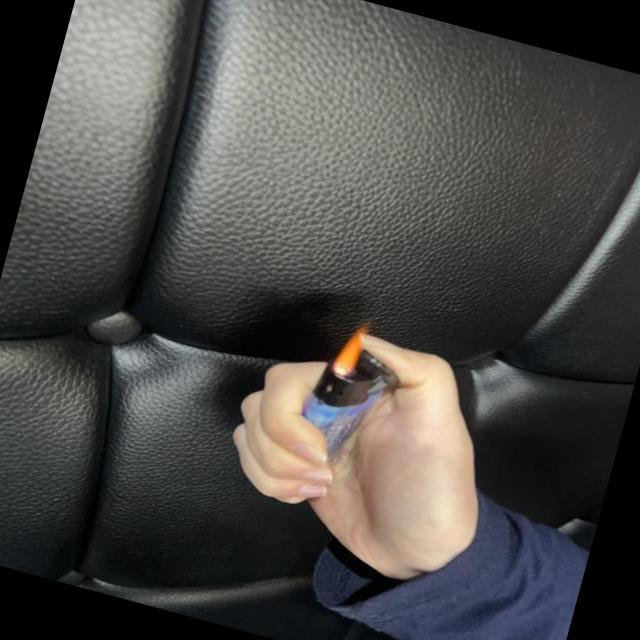Fire: (331, 316, 373, 379)
